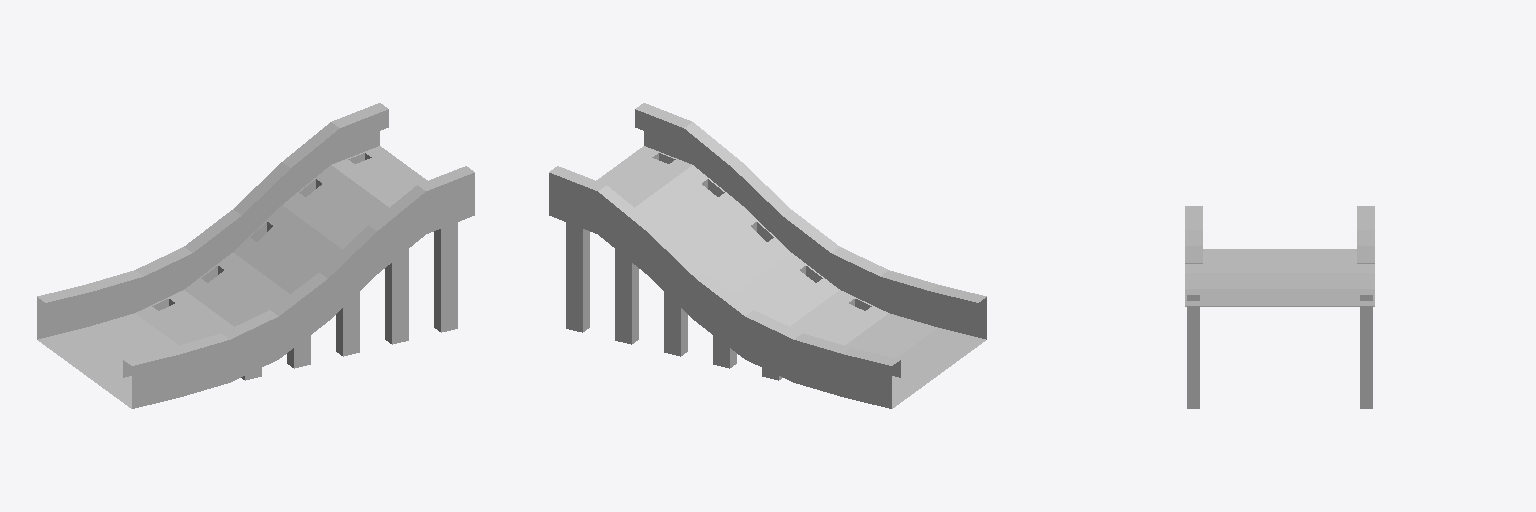
File: bridgestartedge.obj
3 views of the same model, side by side, from view 1: azimuth 30°, elevation 25°; view 2: azimuth 150°, elevation 25°; view 3: azimuth 270°, elevation 25° (orthographic).
Parts seen in each view (by area): view 1: polySurface3 pCube9; view 2: polySurface3 pCube9; view 3: polySurface3 pCube9.
Boxes of the visible parts, x1,y1,x2,y2 form: polySurface3 pCube9: [37, 103, 474, 408]; polySurface3 pCube9: [549, 103, 986, 408]; polySurface3 pCube9: [1185, 206, 1374, 408].
Bounding box in the file's own units: 2.5 × 1.07 × 1.2.